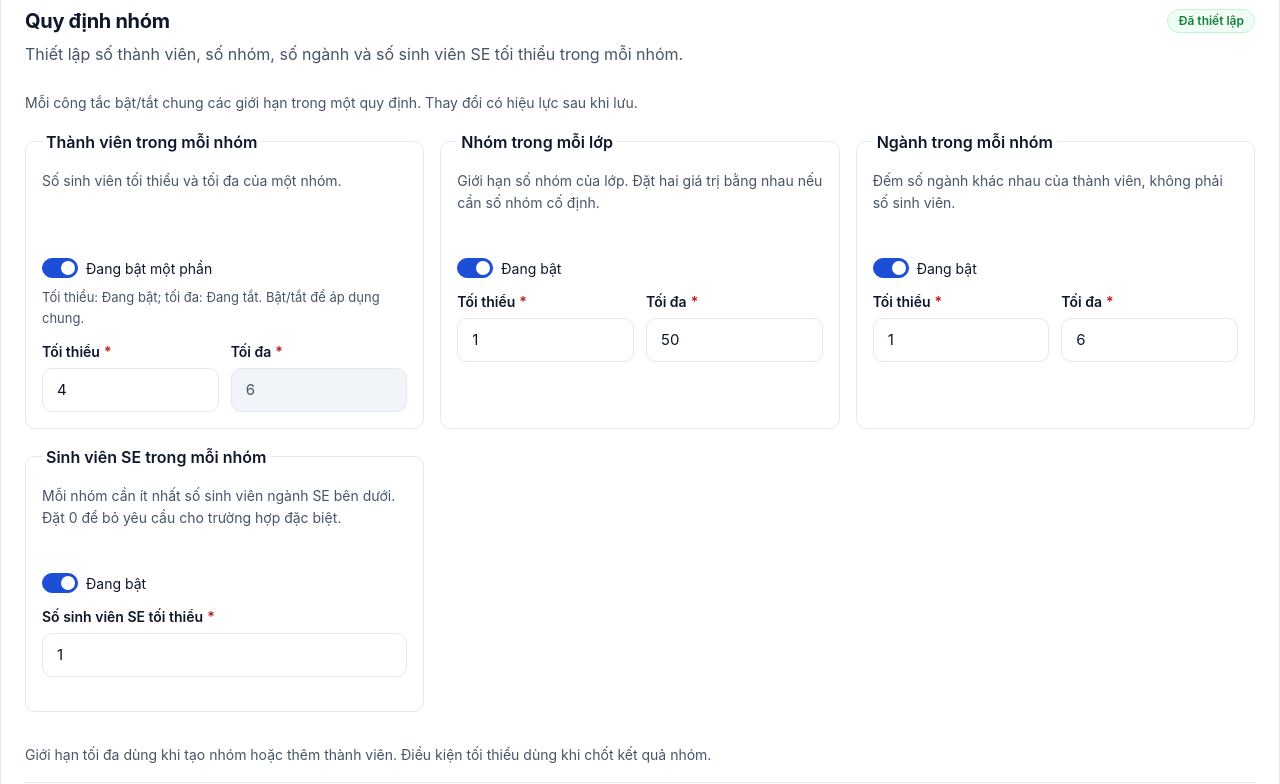
Class grouping rules workflow › preserves an existing partly enabled pair with bound 0 enabled until the user toggles it
Expected: the text "Đang bật một phần" is shown, [86,258,212,279]
Click the switch labelled "Đang bật một phần": {"x": 60, "y": 268} [42,258,78,278]
(page scrolled)
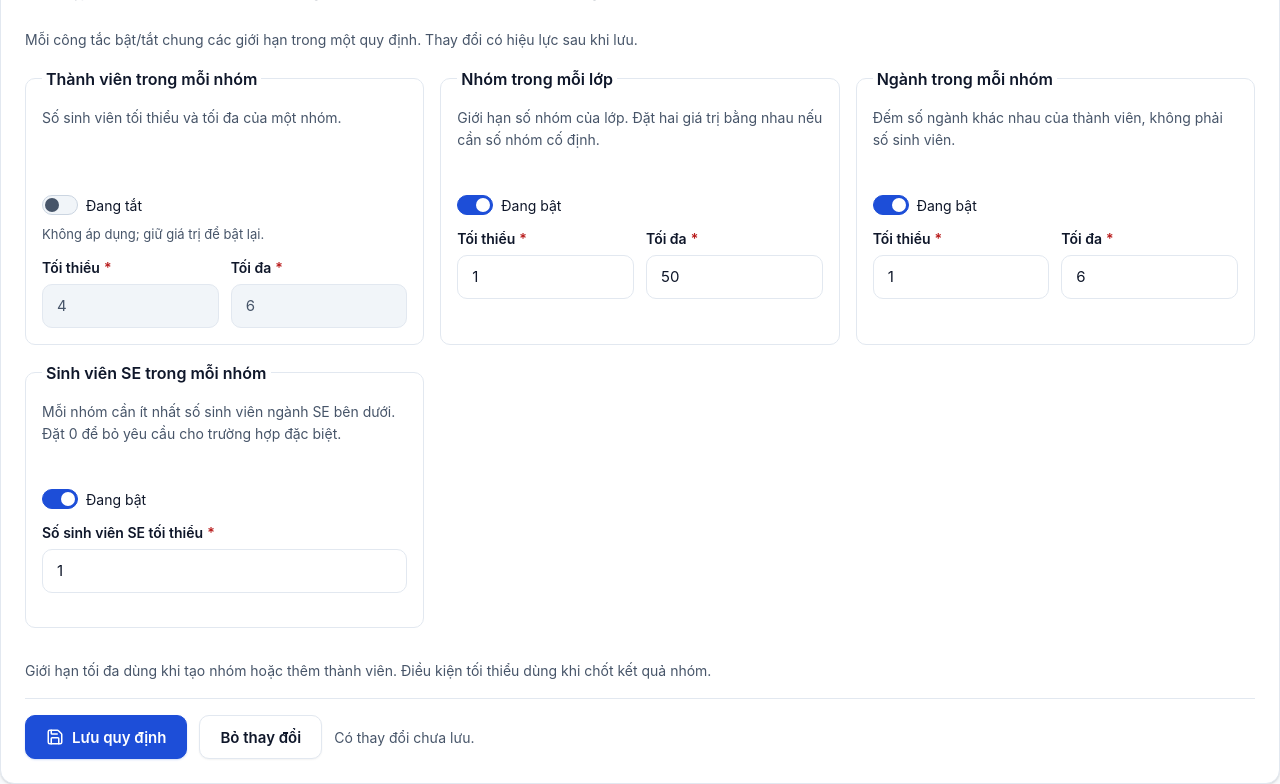
Expected: the text "Đang bật một phần" is gone
Click the button "Lưu quy định": {"x": 106, "y": 737} [25,715,188,759]
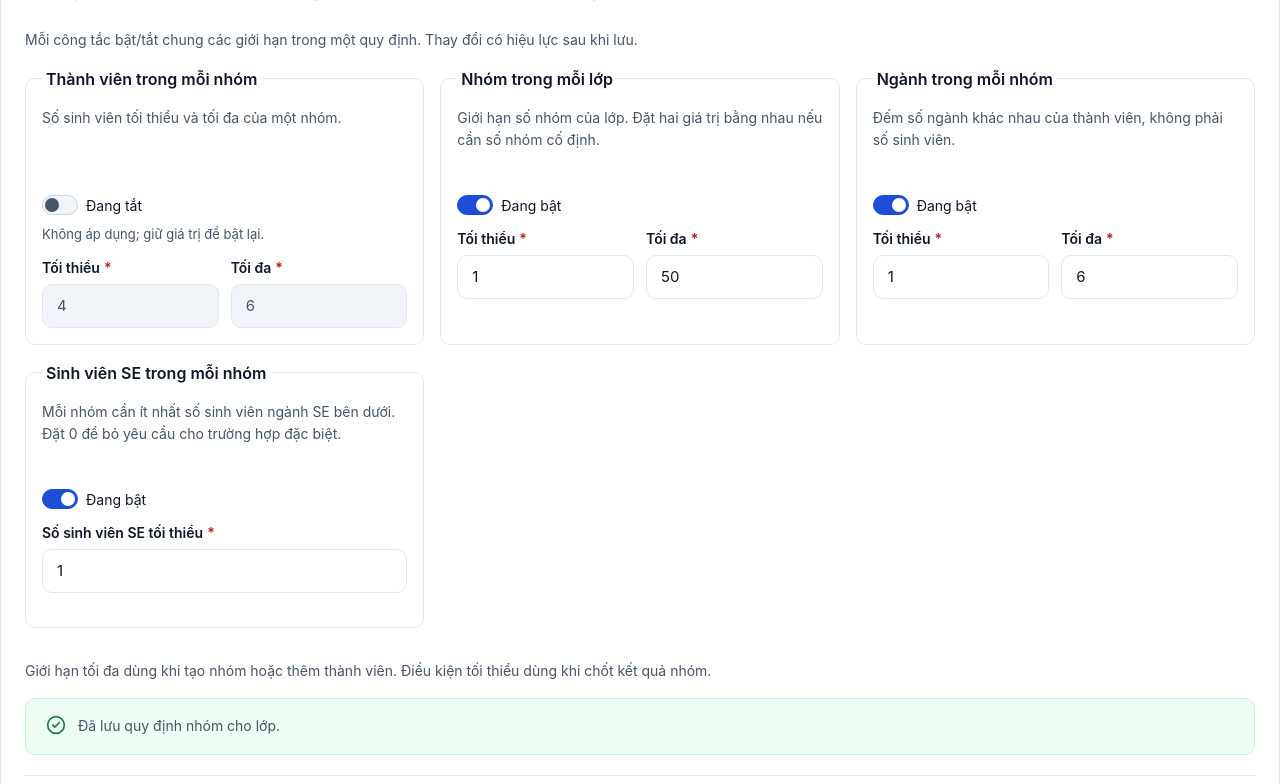
Expected: the text "Đã lưu quy định nhóm cho lớp." is shown, [78,715,280,738]
